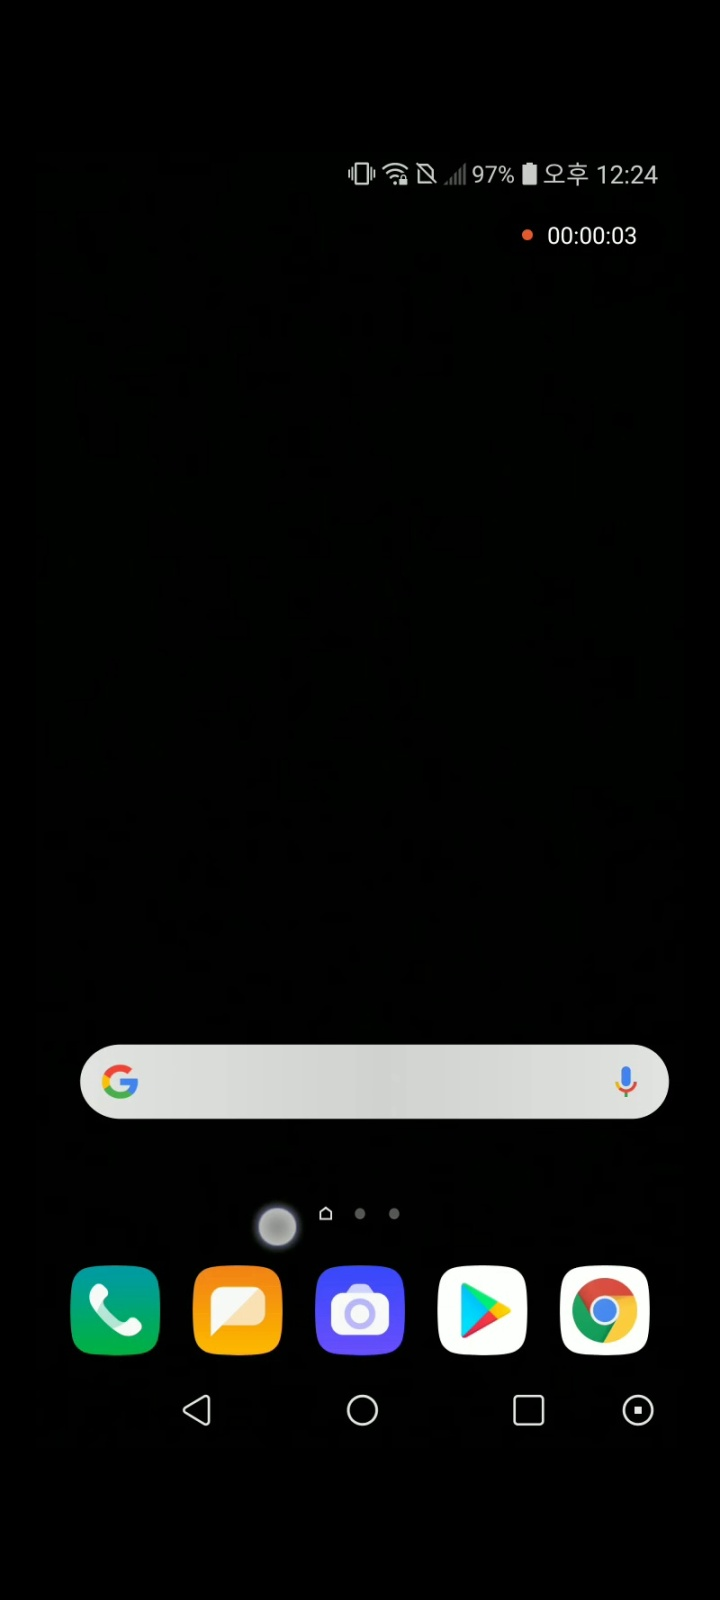Cursor: (255, 1204, 300, 1249)
